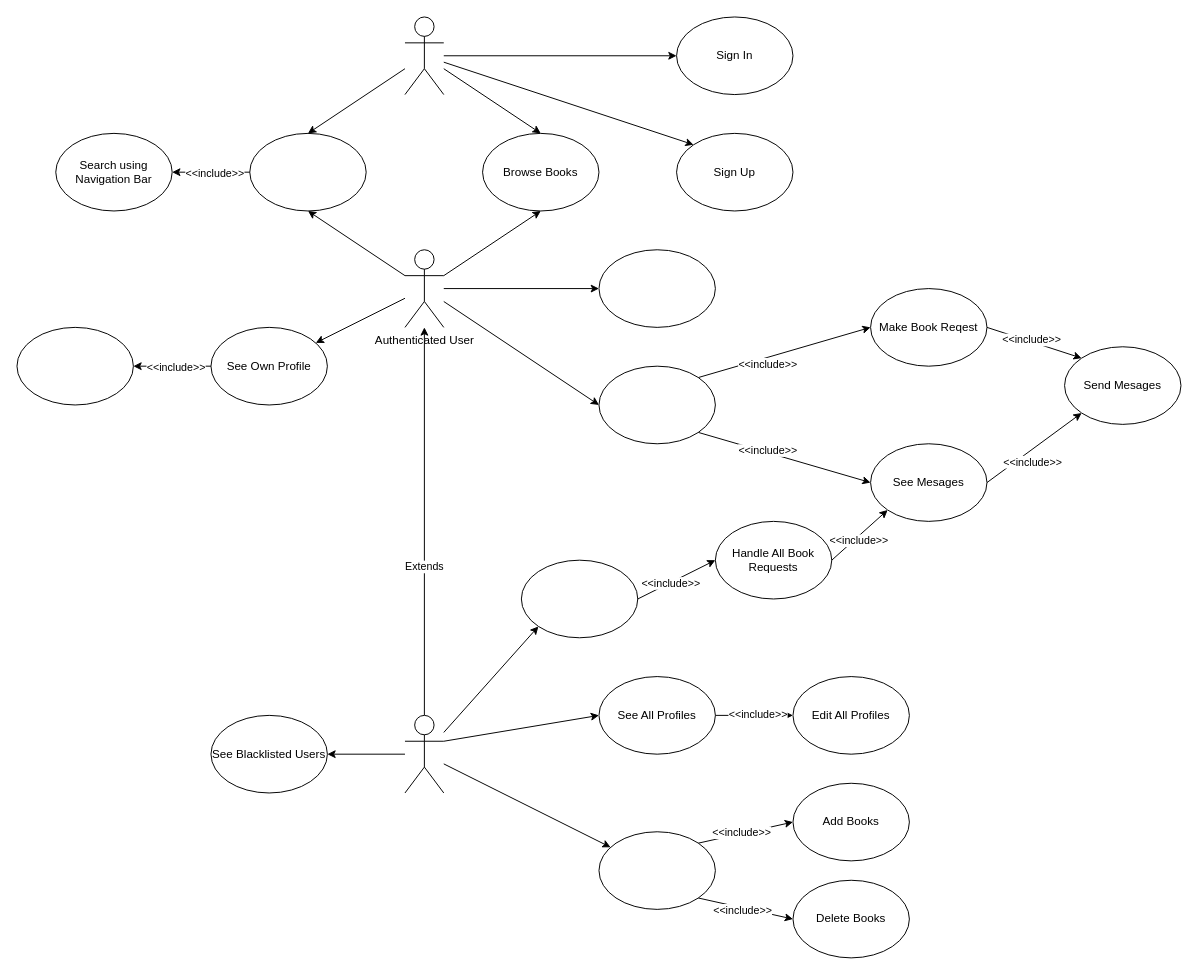
Image size: 1198x975. Some labels were removed from this diagram. Here are the shapes that lost their labels. From the top down, the box of each, then its label:
(404, 16, 444, 95): Unauthenticated User
(249, 132, 366, 211): See Navigation Bar
(598, 249, 715, 327): Sign Out
(16, 326, 133, 405): Edit Own Profile
(598, 365, 715, 444): See Own Book Request
(520, 559, 638, 638): See All Book Requests
(404, 714, 444, 793): Administrator
(598, 831, 715, 909): Edit Books
